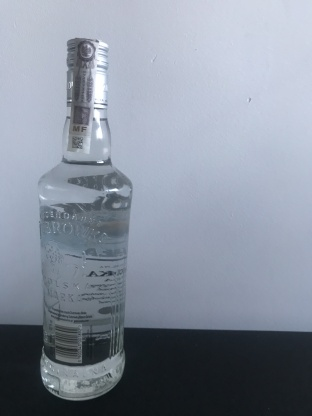nakretka: (63, 33, 111, 113)
